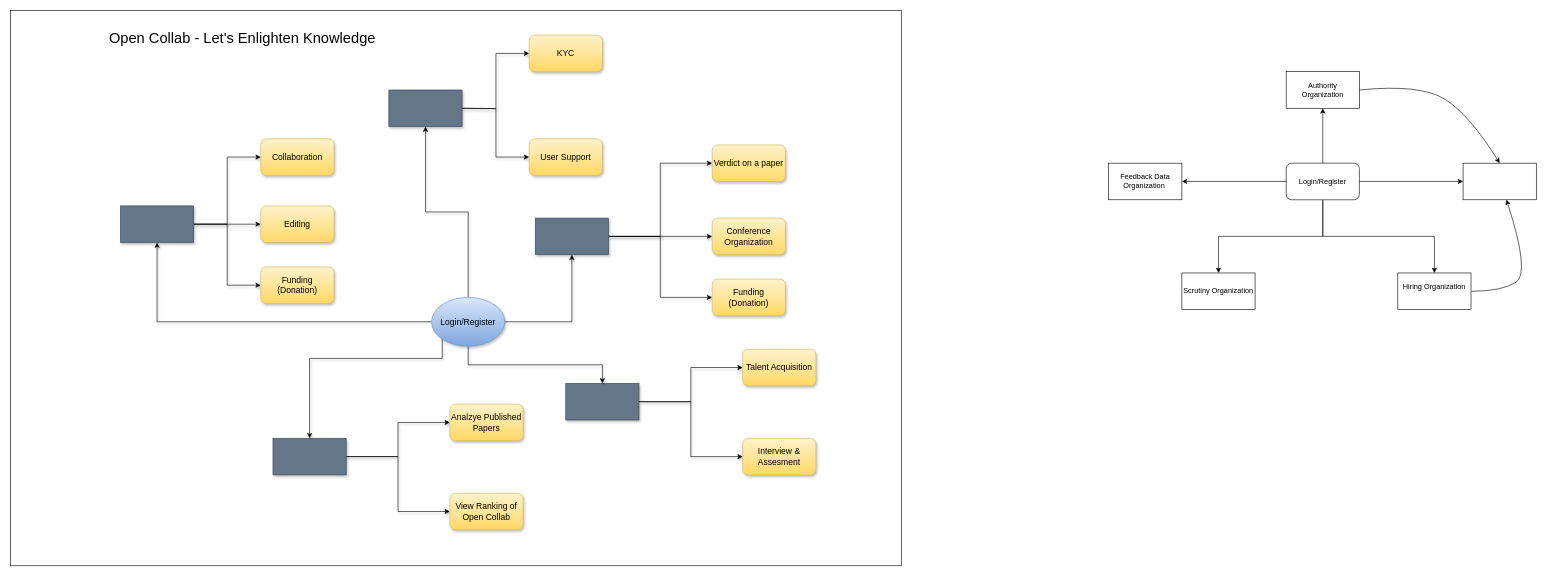
The diagram is 1547 pixels wide and 576 high, and some of its shapes have lost their labels. Here are the shapes that lost their labels. From the top down, the centre of each, then its label:
the point at 426,109: Authorization
the point at 1499,181: Researcher (User)
the point at 157,225: Research
the point at 572,237: Scrutiny
the point at 603,402: Hiring
the point at 310,457: Administration
